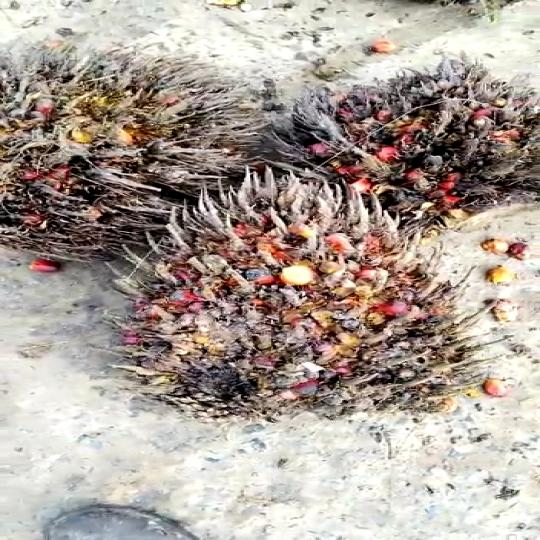terlalu masak: (113, 161, 498, 439), (0, 38, 297, 255), (256, 57, 540, 207)
